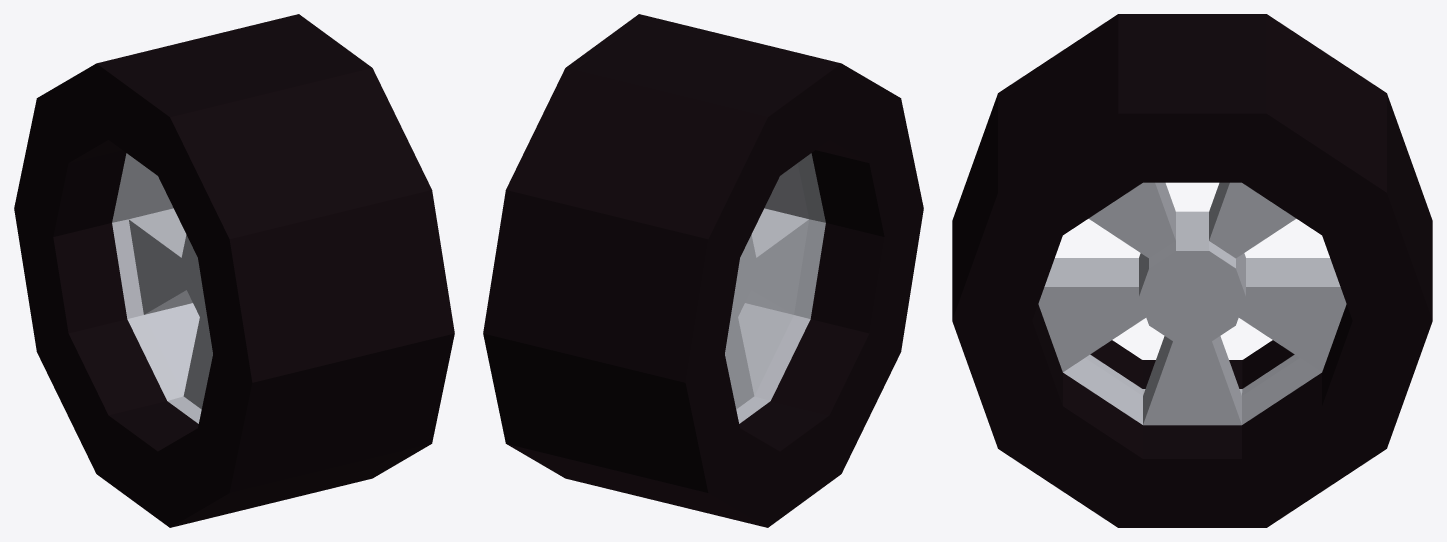
The model's file is please.fbx.
3 renders of one model, left to right at view 1: azimuth 30°, elevation 25°; view 2: azimuth 150°, elevation 25°; view 3: azimuth 270°, elevation 25°, orthographic.
Visible parts, largest first — view 1: Wheel; view 2: Wheel; view 3: Wheel.
Part boxes in pixels (bbox=[...]): Wheel: bbox=[14, 14, 454, 527]; Wheel: bbox=[483, 14, 923, 527]; Wheel: bbox=[952, 14, 1432, 527].
Bounding box in the file's own units: 0.3678 × 0.7127 × 0.7494.
